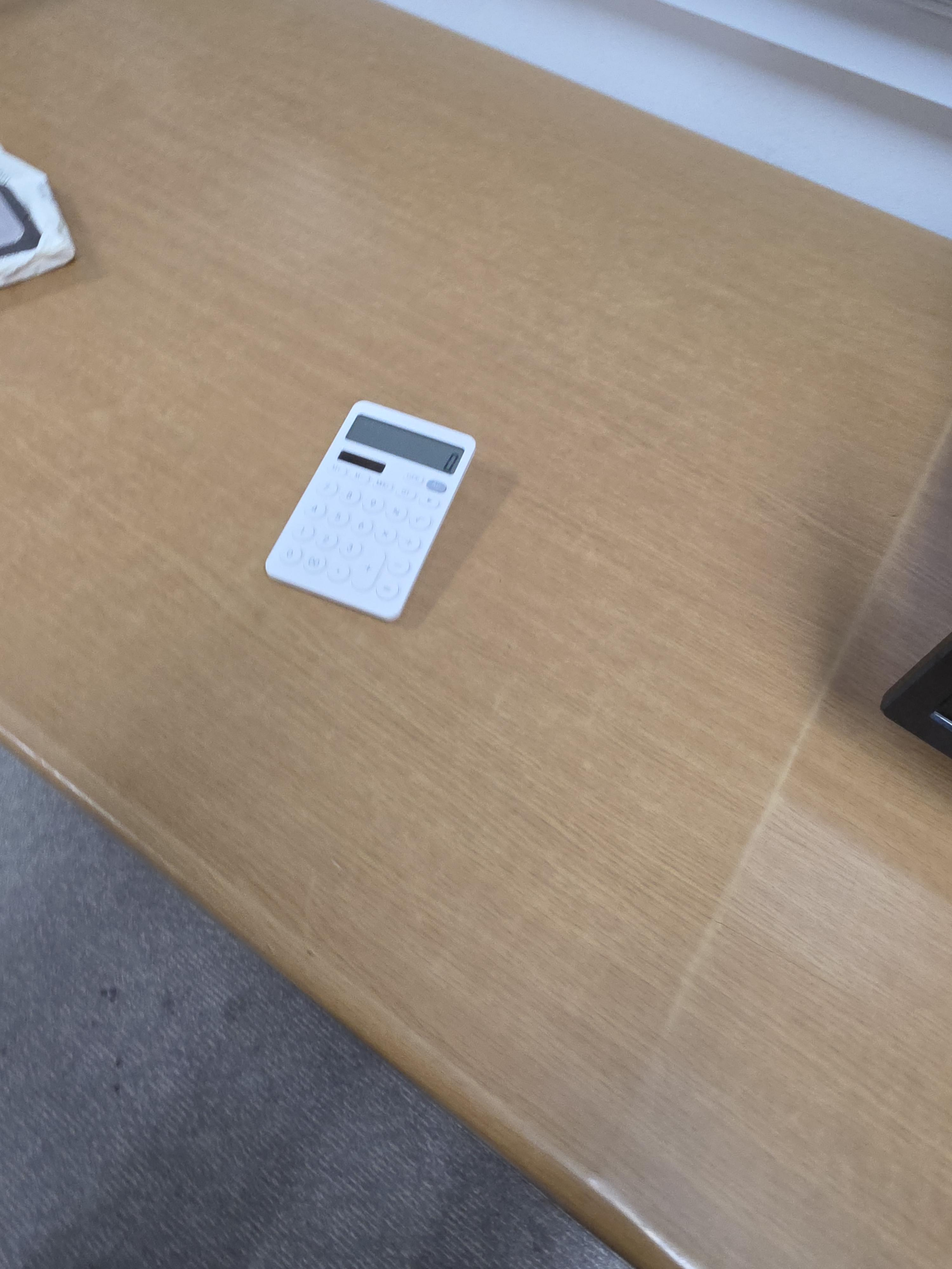calculator: (265, 400, 477, 621)
tissue: (0, 144, 76, 287)
